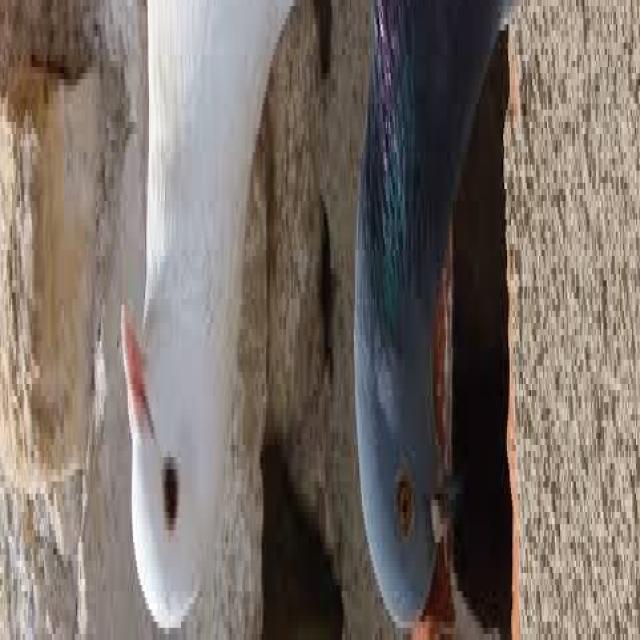pigeon: (108, 0, 314, 640), (342, 0, 548, 640)
